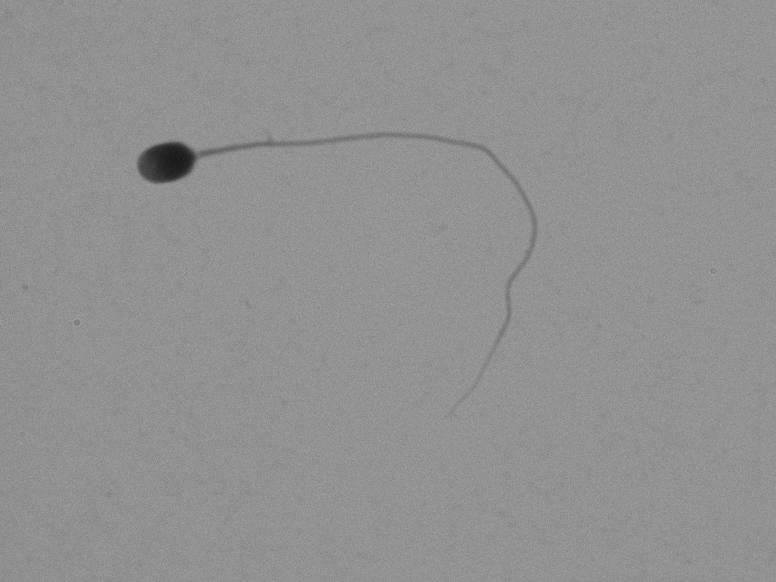Normal: (98, 72, 599, 350)
